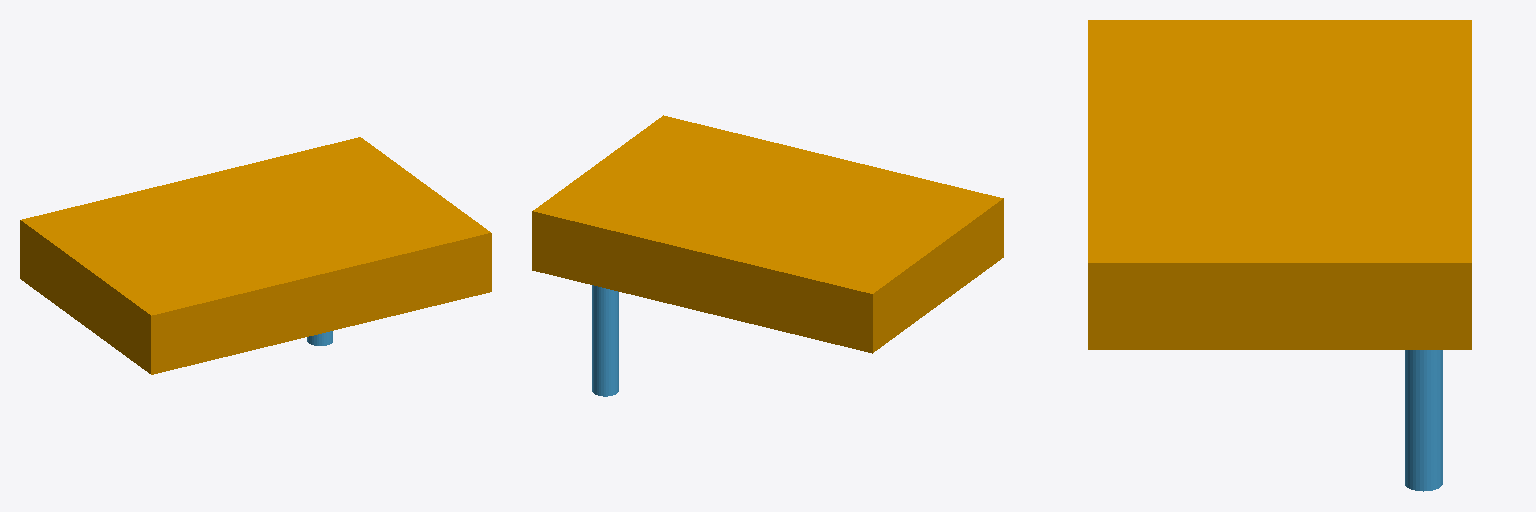
URDF robot description (simple_hexapod):
<?xml version="1.0"?>
<robot name="simple_hexapod">

  <!-- Base Link -->
  <link name="base_link">
    <visual>
      <geometry>
        <box size="0.6 0.4 0.1"/>
      </geometry>
      <origin xyz="0 0 0.35" rpy="0 0 0"/> <!-- Offset the base 0.35m above the ground -->
      <material name="black"/>
    </visual>
  </link>

  <!-- Legs -->
  <!-- Note: This is a simplified representation. Each leg would realistically have more segments and joints. -->
  <!-- Leg 1 -->
  <joint name="leg1_joint1" type="revolute">
    <parent link="base_link"/>
    <child link="leg1_link1"/>
    <origin xyz="0.2 0.15 0.3" rpy="0 0 0"/>
    <axis xyz="0 1 0"/>
    <limit lower="-1.57" upper="1.57" effort="100" velocity="1.0"/>
  </joint>

  <link name="leg1_link1">
    <visual>
      <geometry>
        <cylinder radius="0.02" length="0.2"/>
      </geometry>
      <origin xyz="0 0 -0.1" rpy="0 0 0"/>
      <material name="blue"/>
    </visual>
  </link>

  <!-- Add definitions for other legs here, following the same pattern -->

</robot>

--- Render facts (derived) ---
3 views of the same robot in one strip: view 1: azimuth 30°, elevation 25°; view 2: azimuth 150°, elevation 25°; view 3: azimuth 270°, elevation 25° (orthographic).
Robot: simple_hexapod — 2 links, 1 joints (1 revolute); root link base_link; default pose: all joints at 0.
Links seen in each view (by area): view 1: base_link; view 2: base_link, leg1_link1; view 3: base_link, leg1_link1.
Link boxes in pixels (x1=…): base_link: x1=20, y1=137, x2=491, y2=374; base_link: x1=532, y1=115, x2=1003, y2=353; leg1_link1: x1=592, y1=285, x2=618, y2=396; base_link: x1=1088, y1=20, x2=1471, y2=349; leg1_link1: x1=1405, y1=350, x2=1442, y2=491.
Bounding box of the posed robot: 0.6 × 0.4 × 0.3 m (x, y, z).
Geometry: primitives only (box / cylinder / sphere), no mesh files.